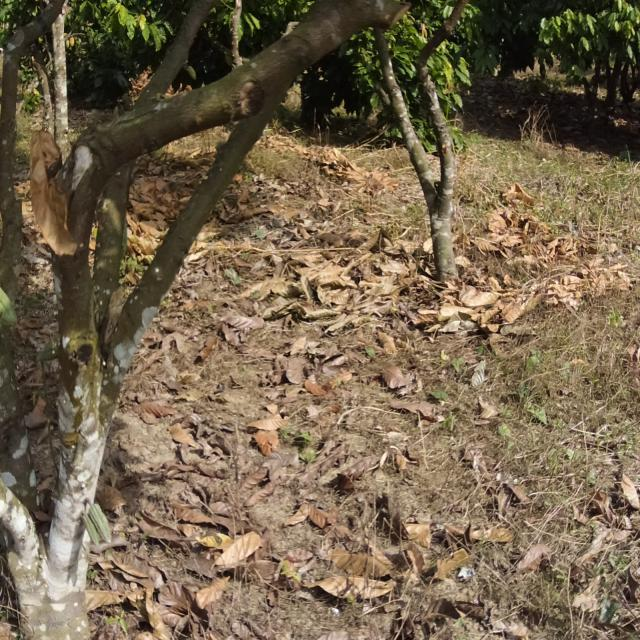Immature: (70, 491, 115, 557)
